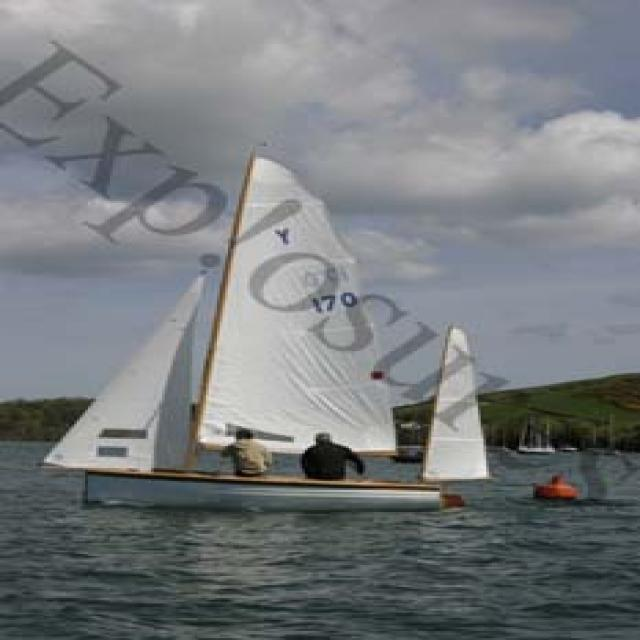Ship: (56, 162, 501, 515)
